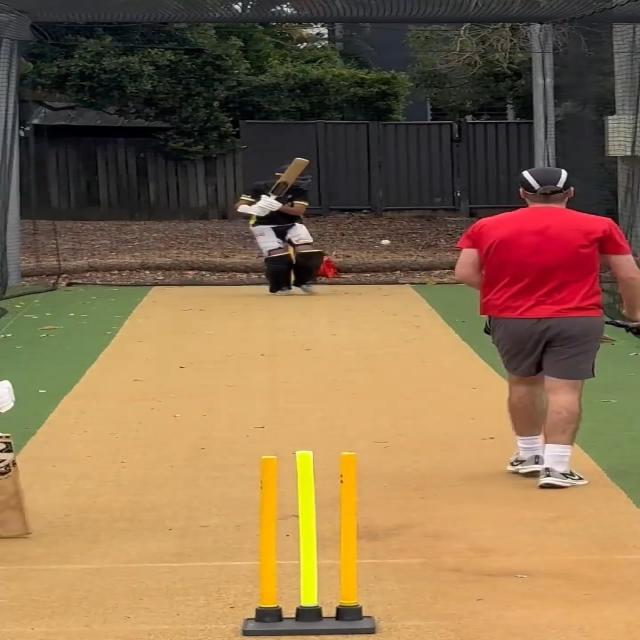ball: (380, 239, 392, 246)
stump: (240, 448, 375, 635)
